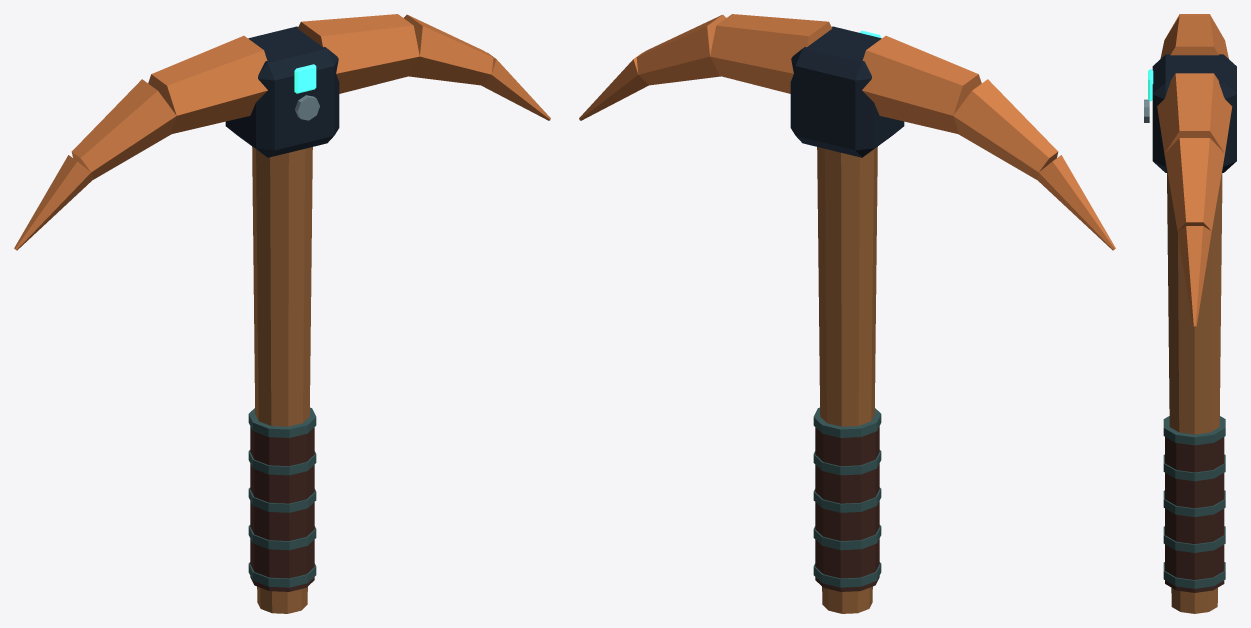
The model's file is Copper_Pickaxe.gltf.
3 views of the same model, side by side, from view 1: azimuth 30°, elevation 25°; view 2: azimuth 150°, elevation 25°; view 3: azimuth 270°, elevation 25° (orthographic). The views are drawn at different scales.
Visible parts, largest first — view 1: Oak_Handle_0, Head_Socket_7, Leather_Grip_1, Tapered_Pick_Tine_8, Tapered_Pick_Tine_11, Tapered_Pick_Tine_9, Tapered_Pick_Tine_12, Tapered_Pick_Tine_10, Tapered_Pick_Tine_13, Grip_Binding_6, Grip_Binding_2, Grip_Binding_5; view 2: Oak_Handle_0, Head_Socket_7, Leather_Grip_1, Tapered_Pick_Tine_8, Tapered_Pick_Tine_11, Tapered_Pick_Tine_9, Tapered_Pick_Tine_12, Tapered_Pick_Tine_10, Tapered_Pick_Tine_13, Grip_Binding_6, Grip_Binding_2, Grip_Binding_5; view 3: Oak_Handle_0, Leather_Grip_1, Tapered_Pick_Tine_11, Tapered_Pick_Tine_12, Head_Socket_7, Tapered_Pick_Tine_8, Tapered_Pick_Tine_13, Grip_Binding_6, Grip_Binding_2, Grip_Binding_5, Grip_Binding_3, Grip_Binding_4 (+1 smaller).
Boxes of the visible parts, box(x1,y1,x2,y2) form: Oak_Handle_0: box(252, 146, 312, 613); Head_Socket_7: box(225, 26, 339, 157); Leather_Grip_1: box(250, 426, 314, 591); Tapered_Pick_Tine_8: box(148, 35, 267, 134); Tapered_Pick_Tine_11: box(297, 14, 419, 93); Tapered_Pick_Tine_9: box(71, 79, 176, 179); Tapered_Pick_Tine_12: box(404, 14, 493, 85); Tapered_Pick_Tine_10: box(14, 155, 92, 250); Tapered_Pick_Tine_13: box(481, 52, 550, 120); Grip_Binding_6: box(248, 407, 316, 437); Grip_Binding_2: box(248, 562, 316, 587); Grip_Binding_5: box(248, 450, 316, 475); Oak_Handle_0: box(817, 146, 877, 613); Head_Socket_7: box(790, 26, 904, 157); Leather_Grip_1: box(815, 426, 879, 591); Tapered_Pick_Tine_8: box(862, 35, 981, 134); Tapered_Pick_Tine_11: box(710, 14, 832, 93); Tapered_Pick_Tine_9: box(953, 79, 1058, 179); Tapered_Pick_Tine_12: box(636, 14, 725, 85); Tapered_Pick_Tine_10: box(1037, 155, 1115, 250); Tapered_Pick_Tine_13: box(579, 52, 648, 120); Grip_Binding_6: box(813, 407, 881, 437); Grip_Binding_2: box(813, 562, 881, 587); Grip_Binding_5: box(813, 450, 881, 475); Oak_Handle_0: box(1167, 173, 1222, 613); Leather_Grip_1: box(1165, 437, 1224, 592); Tapered_Pick_Tine_11: box(1157, 73, 1232, 153); Tapered_Pick_Tine_12: box(1164, 138, 1224, 230); Head_Socket_7: box(1152, 54, 1236, 172); Tapered_Pick_Tine_8: box(1160, 15, 1228, 58); Tapered_Pick_Tine_13: box(1177, 226, 1211, 327); Grip_Binding_6: box(1163, 416, 1225, 445); Grip_Binding_2: box(1163, 562, 1225, 588); Grip_Binding_5: box(1163, 454, 1225, 481); Grip_Binding_3: box(1163, 526, 1225, 552); Grip_Binding_4: box(1163, 490, 1225, 516).
Size of the model in its own units: 2.25 by 2.28 by 0.352.
